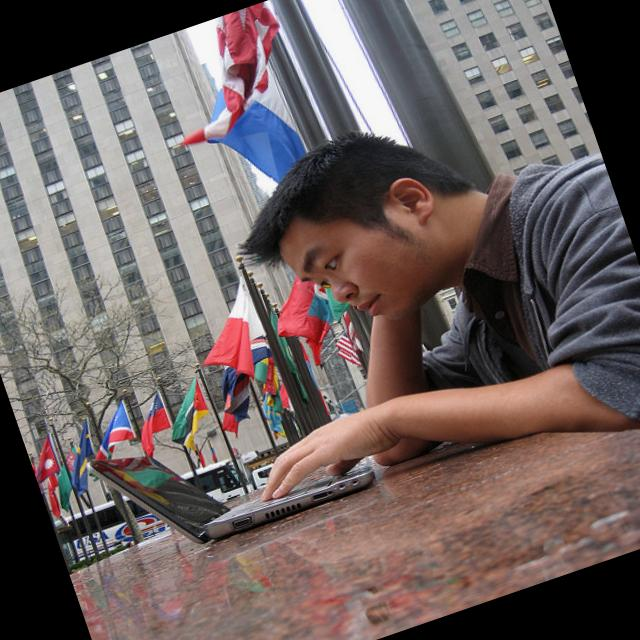Vehicle: (50, 456, 248, 566)
